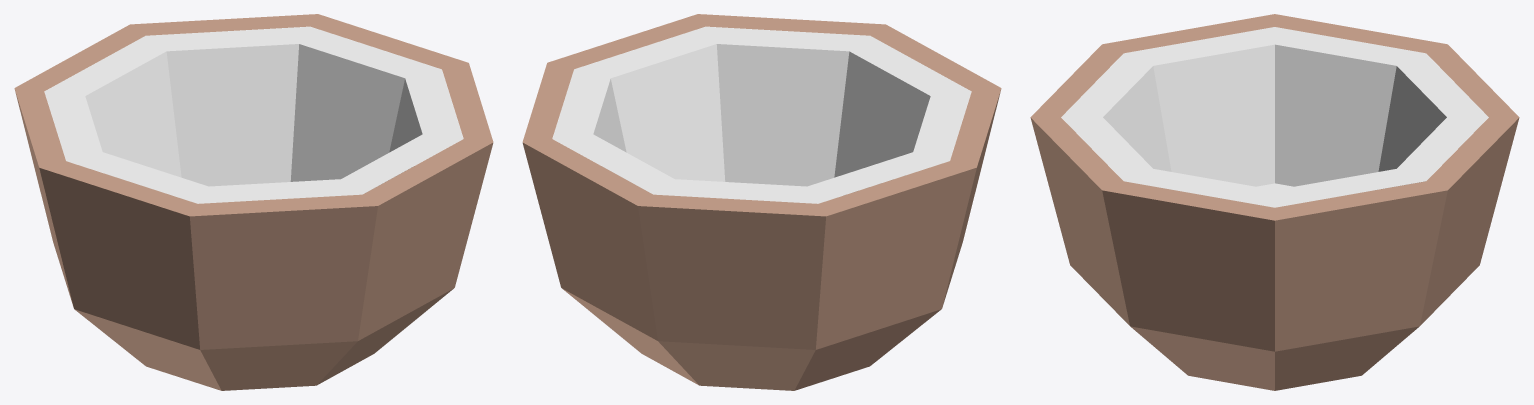
The picture shows the model from 3 angles, left to right: view 1: azimuth 30°, elevation 25°; view 2: azimuth 150°, elevation 25°; view 3: azimuth 270°, elevation 25°; orthographic projection.
Visible parts, largest first — view 1: coconutHalf; view 2: coconutHalf; view 3: coconutHalf.
Boxes of the visible parts, x1,y1,x2,y2 form: coconutHalf: (14, 14, 493, 390); coconutHalf: (522, 14, 1001, 390); coconutHalf: (1030, 14, 1519, 390).
Size of the model in its own units: 0.2484 by 0.1242 by 0.2484.
